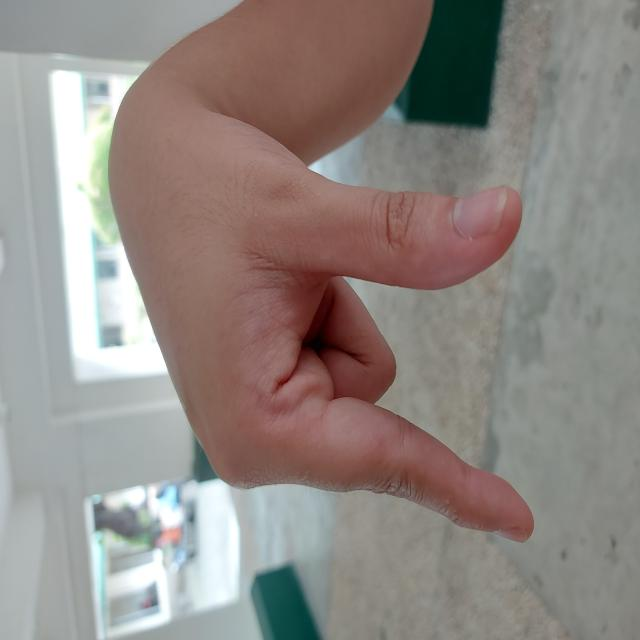Q: (94, 108, 532, 537)
